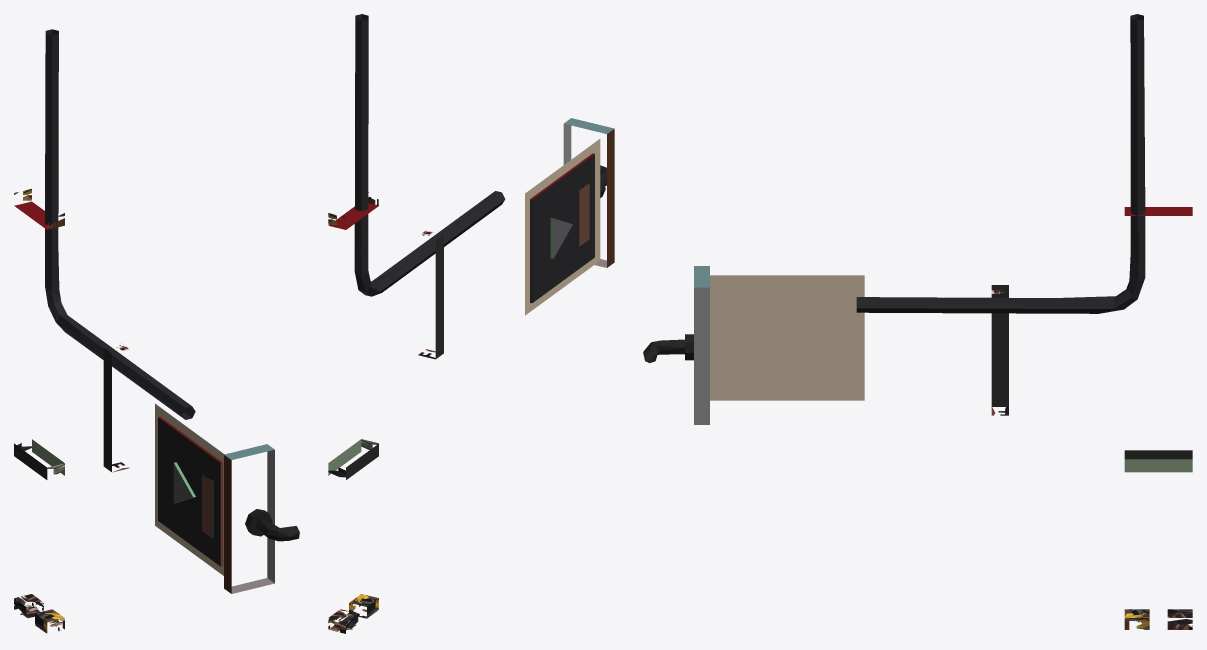
The picture shows the model from 3 angles, left to right: view 1: azimuth 30°, elevation 25°; view 2: azimuth 150°, elevation 25°; view 3: azimuth 270°, elevation 25°; orthographic projection. The views are drawn at different scales.
Size of the model in its own units: 0.0783 by 1.03 by 0.8341.
